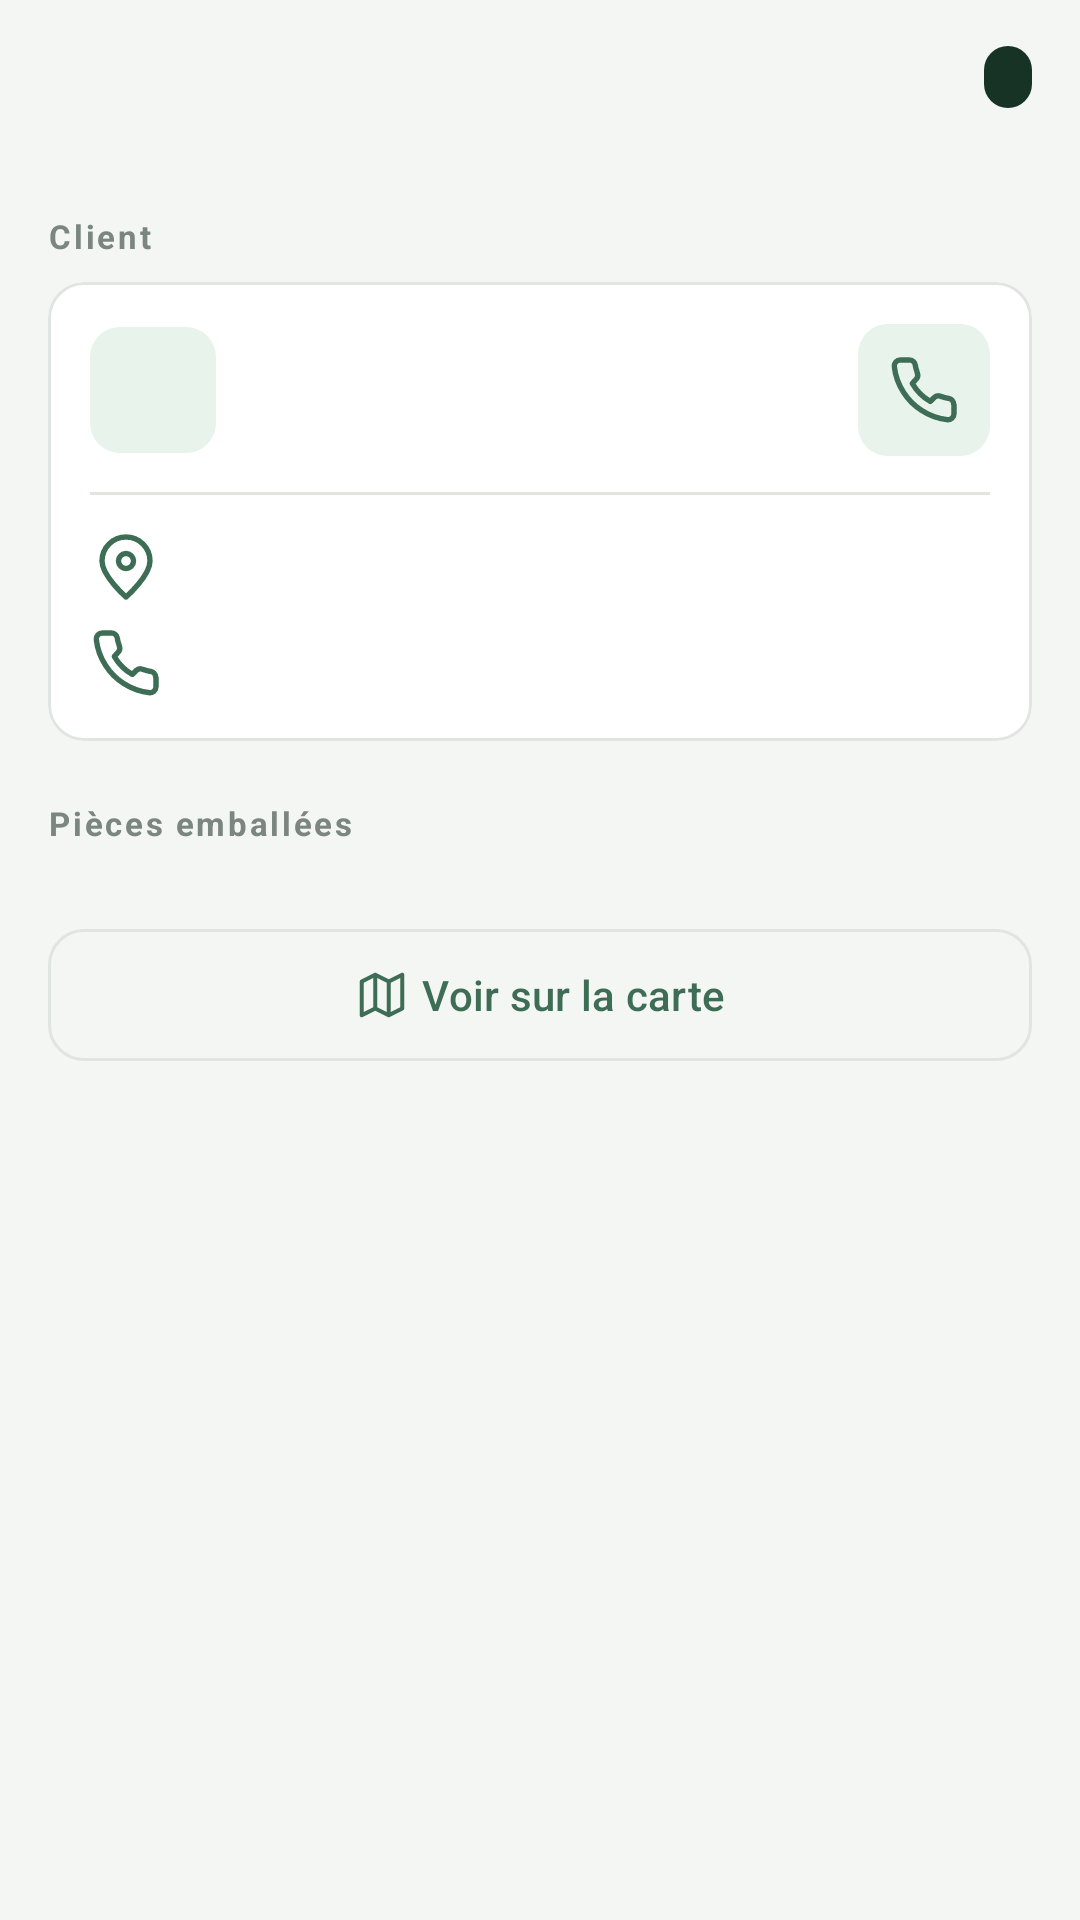

Icons on this 1080 x 1920 Android screen, each with its box as (x1, y1, x2, y2):
Appeler le client: (858, 324, 990, 456)
